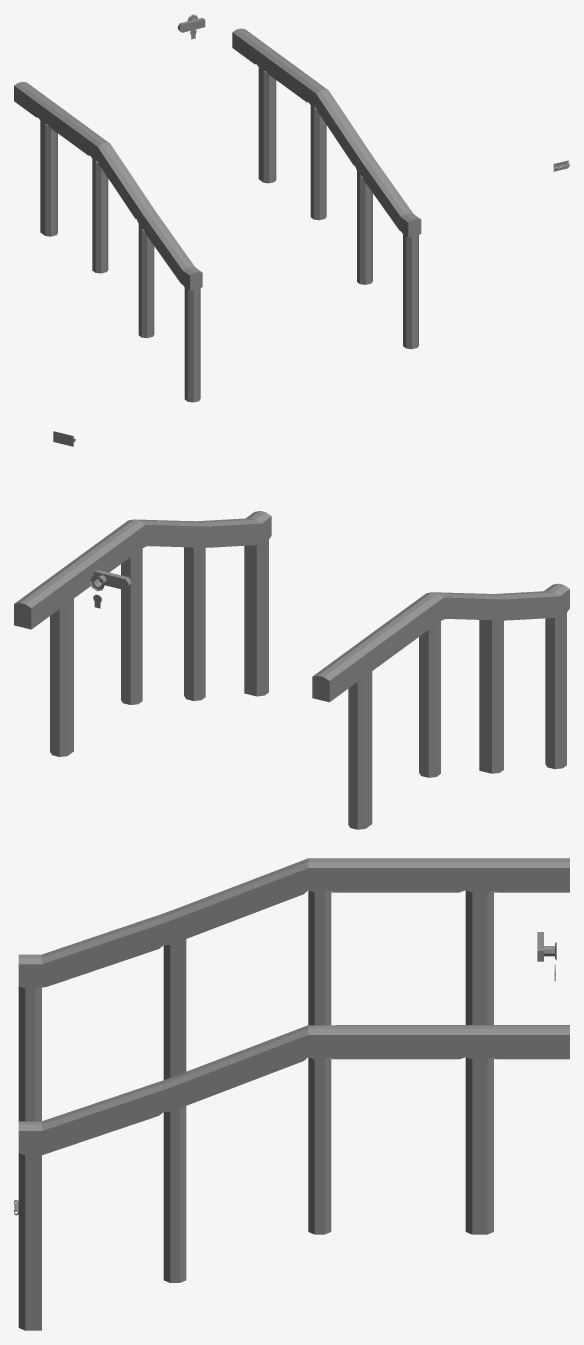
File: buildig.004_metal_(matte)_0_lev3.glb
3 views of the same model, one above another, from view 1: azimuth 30°, elevation 25°; view 2: azimuth 150°, elevation 25°; view 3: azimuth 270°, elevation 25° (orthographic). The views are drawn at different scales.
Parts seen in each view (by area): view 1: buildig.004_metal_(matte)_0_lev3; view 2: buildig.004_metal_(matte)_0_lev3; view 3: buildig.004_metal_(matte)_0_lev3.
Boxes of the visible parts, x1,y1,x2,y2 form: buildig.004_metal_(matte)_0_lev3: (14,14,569,402); buildig.004_metal_(matte)_0_lev3: (14,431,569,829); buildig.004_metal_(matte)_0_lev3: (14,858,569,1330).
Bounding box in the file's own units: 0.7274 × 0.4052 × 0.5913.
Materials: 1 (1 with a texture image).
